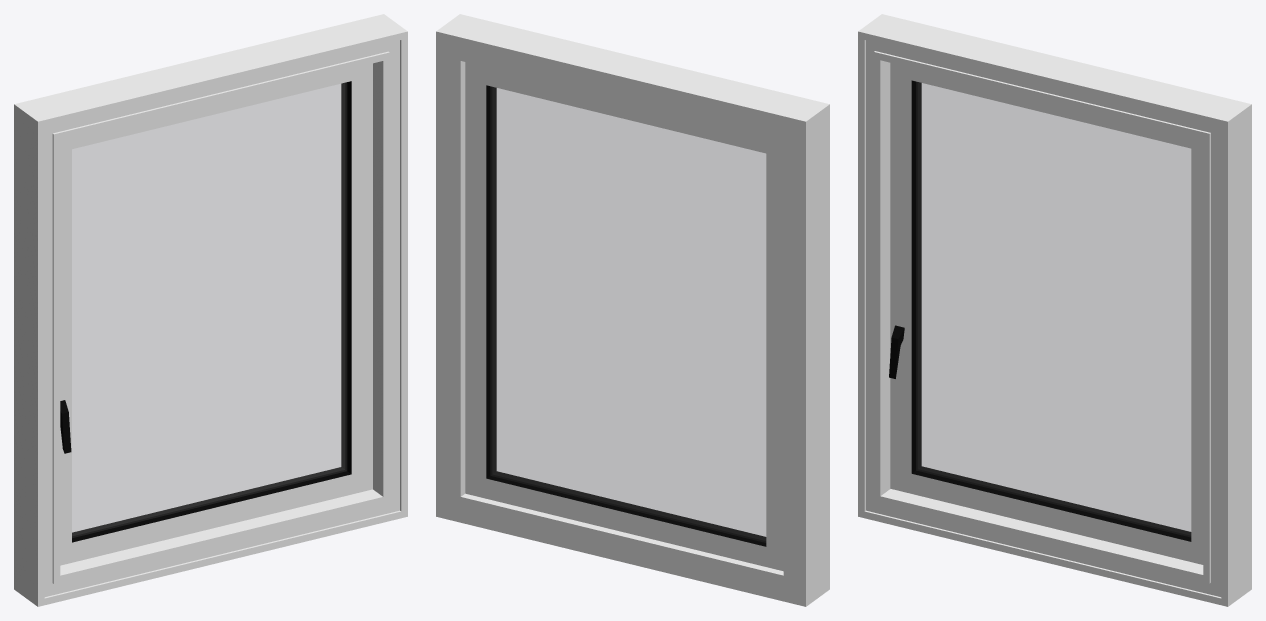
The model's file is Window.FBX.
The picture shows the model from 3 angles, left to right: view 1: azimuth 30°, elevation 25°; view 2: azimuth 150°, elevation 25°; view 3: azimuth 330°, elevation 25°; orthographic projection.
Visible parts, largest first — view 1: window, window frame; view 2: window, window frame; view 3: window, window frame.
Part boxes in pixels (x1=…): window: x1=60, y1=63, x2=372, y2=565; window frame: x1=14, y1=14, x2=407, y2=606; window: x1=465, y1=62, x2=783, y2=571; window frame: x1=436, y1=14, x2=829, y2=606; window: x1=889, y1=63, x2=1203, y2=564; window frame: x1=858, y1=14, x2=1251, y2=606.
Size of the model in its own units: 105 by 132 by 11.76.
